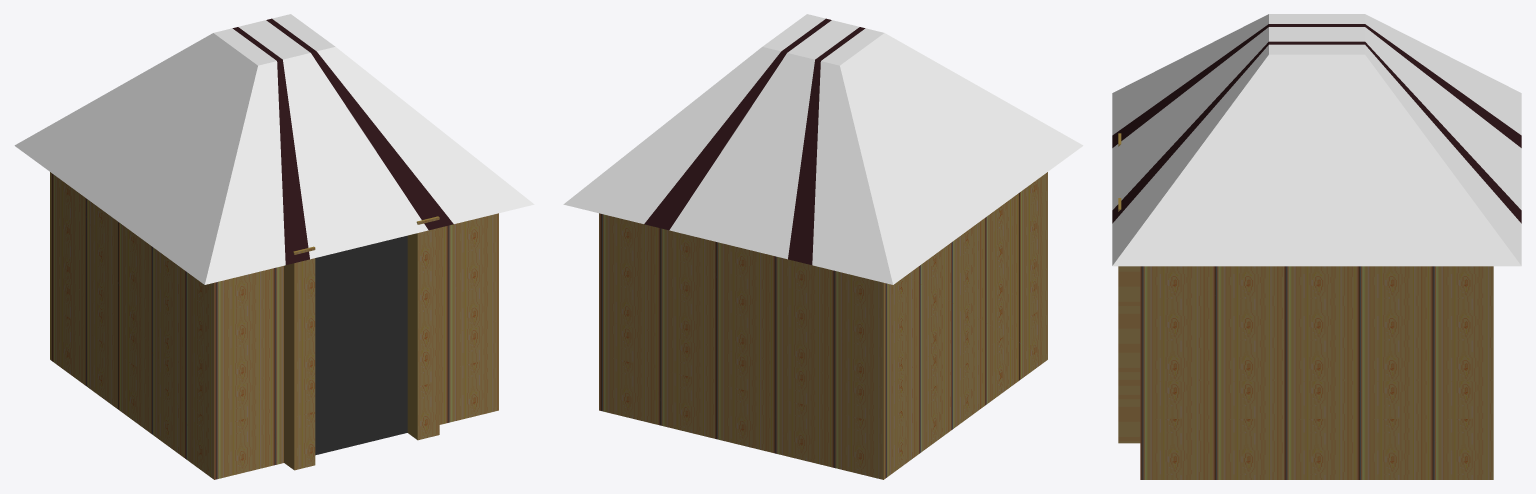
Rendered from goblinhut.glb.
3 renders of one model, left to right at view 1: azimuth 30°, elevation 25°; view 2: azimuth 150°, elevation 25°; view 3: azimuth 270°, elevation 25°, orthographic. The views are drawn at different scales.
Visible parts, largest first — view 1: Cube; view 2: Cube; view 3: Cube.
Boxes of the visible parts, x1=… form: Cube: x1=14, y1=14, x2=534, y2=479; Cube: x1=563, y1=14, x2=1083, y2=479; Cube: x1=1112, y1=14, x2=1521, y2=479.
Size of the model in its own units: 1 by 1 by 1.
4 materials, 1 textured.
